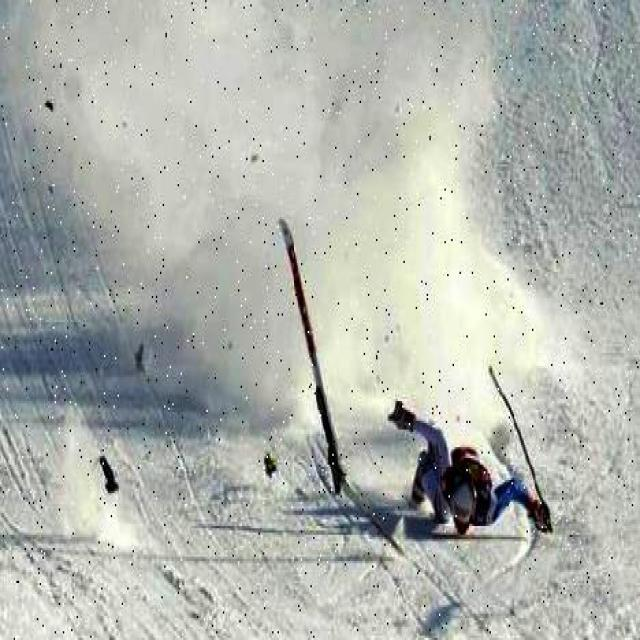fall: (387, 406, 551, 534)
